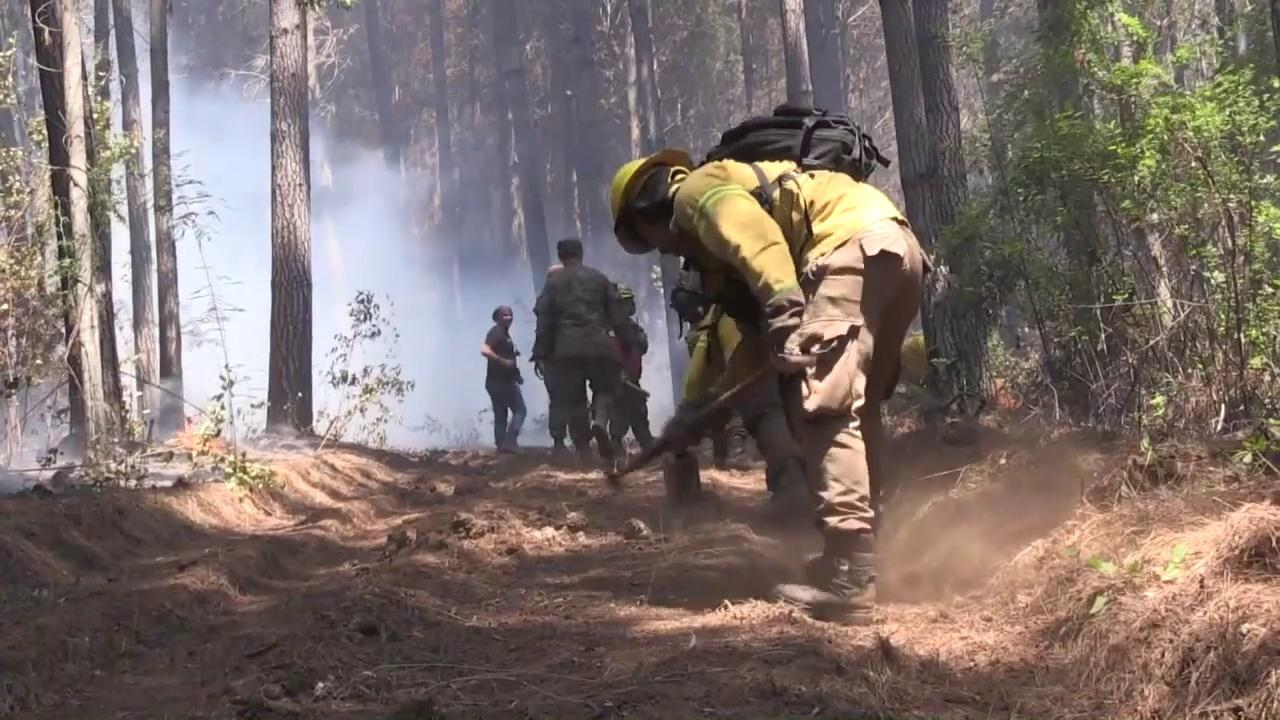smoke: (188, 118, 264, 380), (320, 182, 428, 354)
